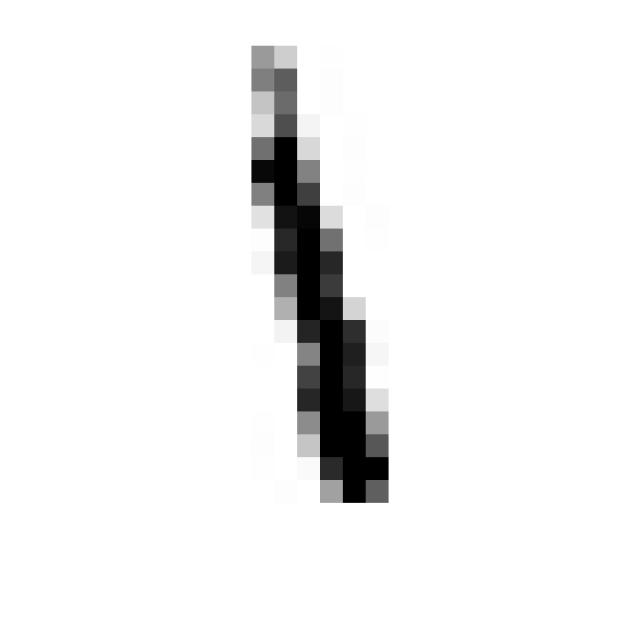1 -one-: (222, 36, 408, 524)
